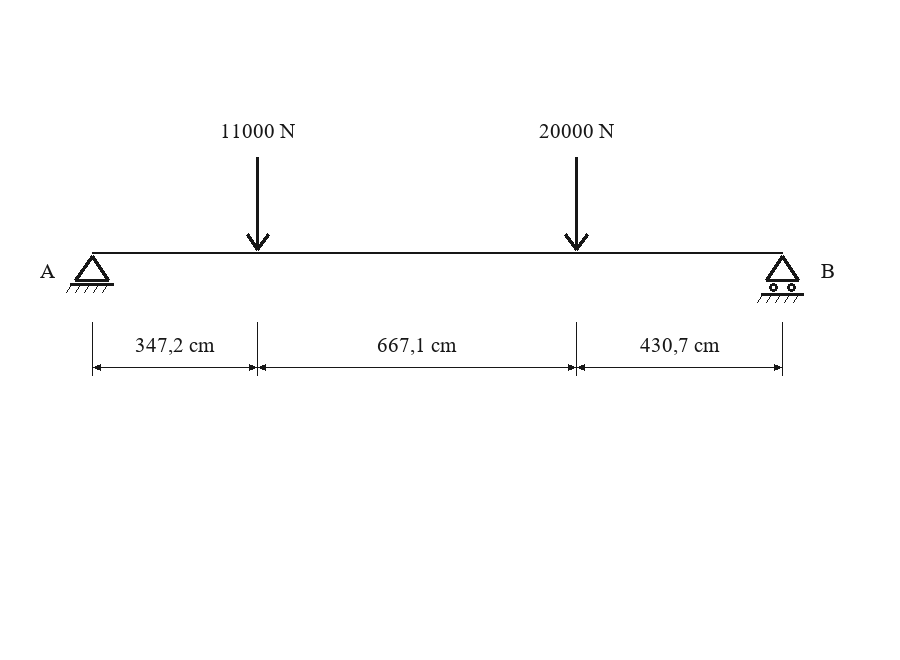pin_support: (66, 255, 114, 293)
point_load: (564, 157, 589, 251), (246, 157, 270, 251)
roller_support: (757, 255, 804, 303)
